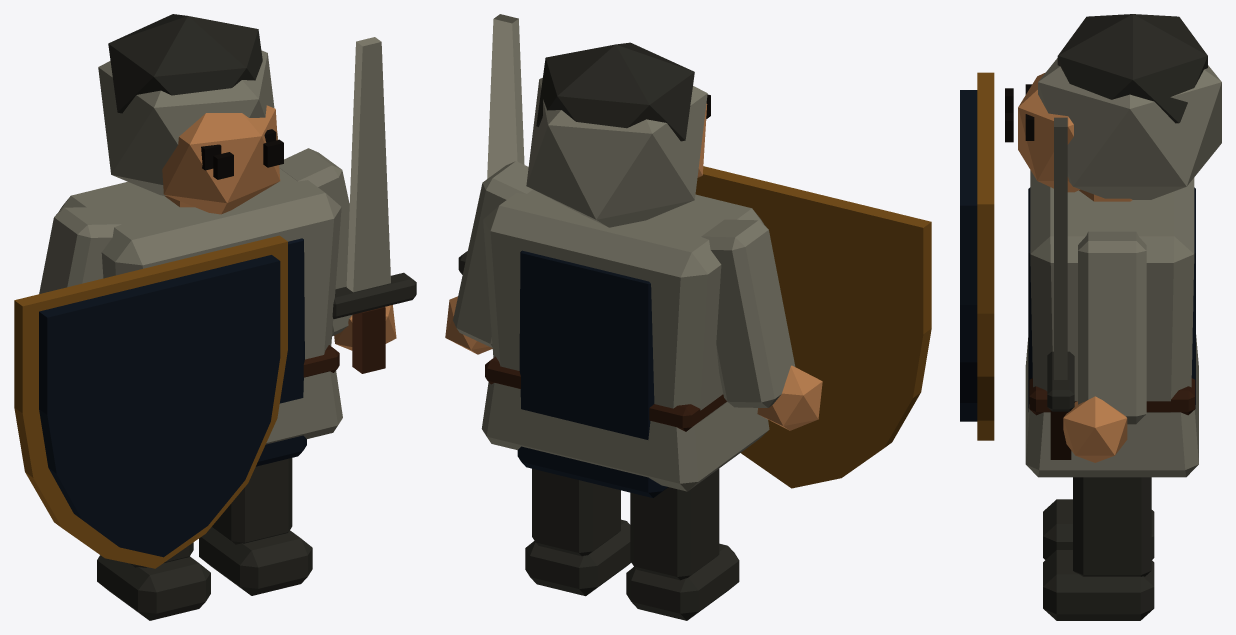
The model's file is man_at_arms.obj.
3 views of the same model, side by side, from view 1: azimuth 30°, elevation 25°; view 2: azimuth 150°, elevation 25°; view 3: azimuth 270°, elevation 25° (orthographic). The views are drawn at different scales.
Parts seen in each view (by area): view 1: body, tool; view 2: body, tool; view 3: body, tool.
Part boxes in pixels (bbox=[...]): body: bbox=[14, 14, 396, 620]; tool: bbox=[332, 37, 416, 373]; body: bbox=[445, 42, 931, 620]; tool: bbox=[458, 14, 524, 274]; body: bbox=[960, 14, 1221, 620]; tool: bbox=[1047, 117, 1074, 459].
Bounding box in the file's own units: 0.2962 × 0.3673 × 0.1531.
